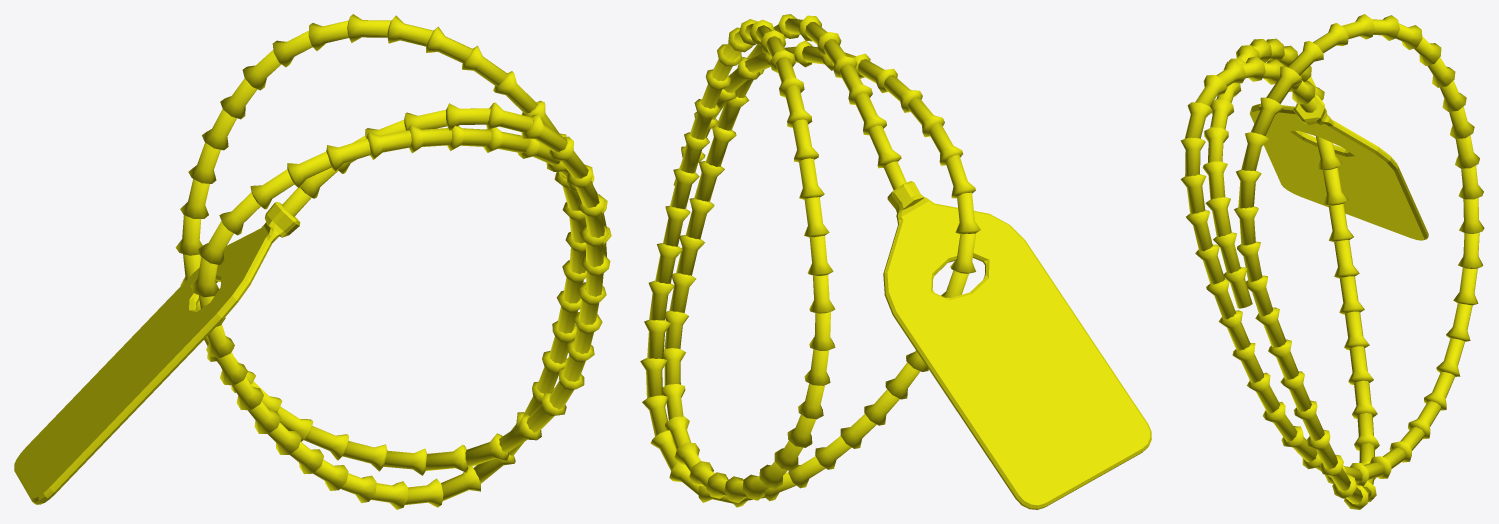
File: tag.glb
3 views of the same model, side by side, from view 1: azimuth 30°, elevation 25°; view 2: azimuth 150°, elevation 25°; view 3: azimuth 270°, elevation 25° (orthographic). The views are drawn at different scales.
Visible parts, largest first — view 1: Security Tag; view 2: Security Tag; view 3: Security Tag.
Part boxes in pixels (box(x1,y1,x2,y2)): Security Tag: box(14, 14, 611, 509); Security Tag: box(640, 14, 1151, 509); Security Tag: box(1180, 14, 1484, 509).
Size of the model in its own units: 0.0678 by 0.0613 by 0.0371.
